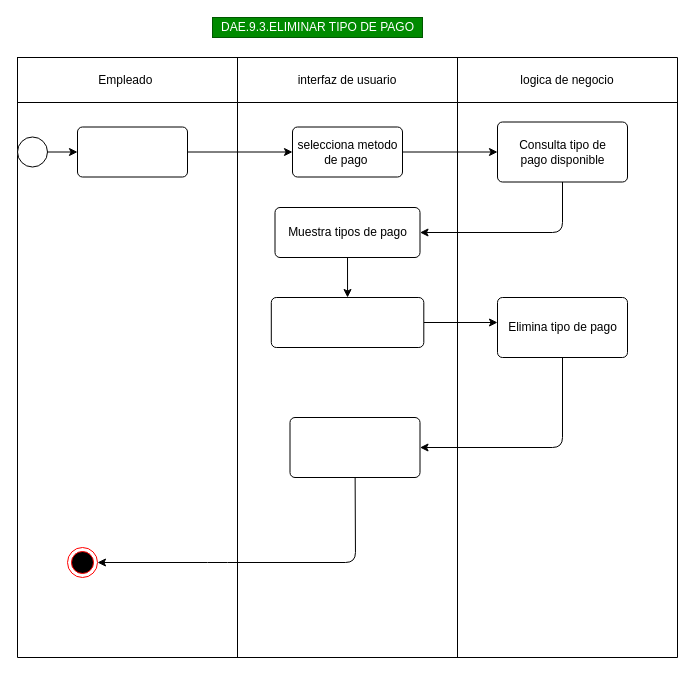
This 695x675 diagram has some shape labels left out. Here are the shapes that lost their labels. From the top down, the centre of each, then its label:
At [132,151]: "ingresa a tipo de pago".
At [347,322]: "selecciona y confirma eliminar tipos de pago".
At [354,447]: "Muestra tipos de pago restantes".
